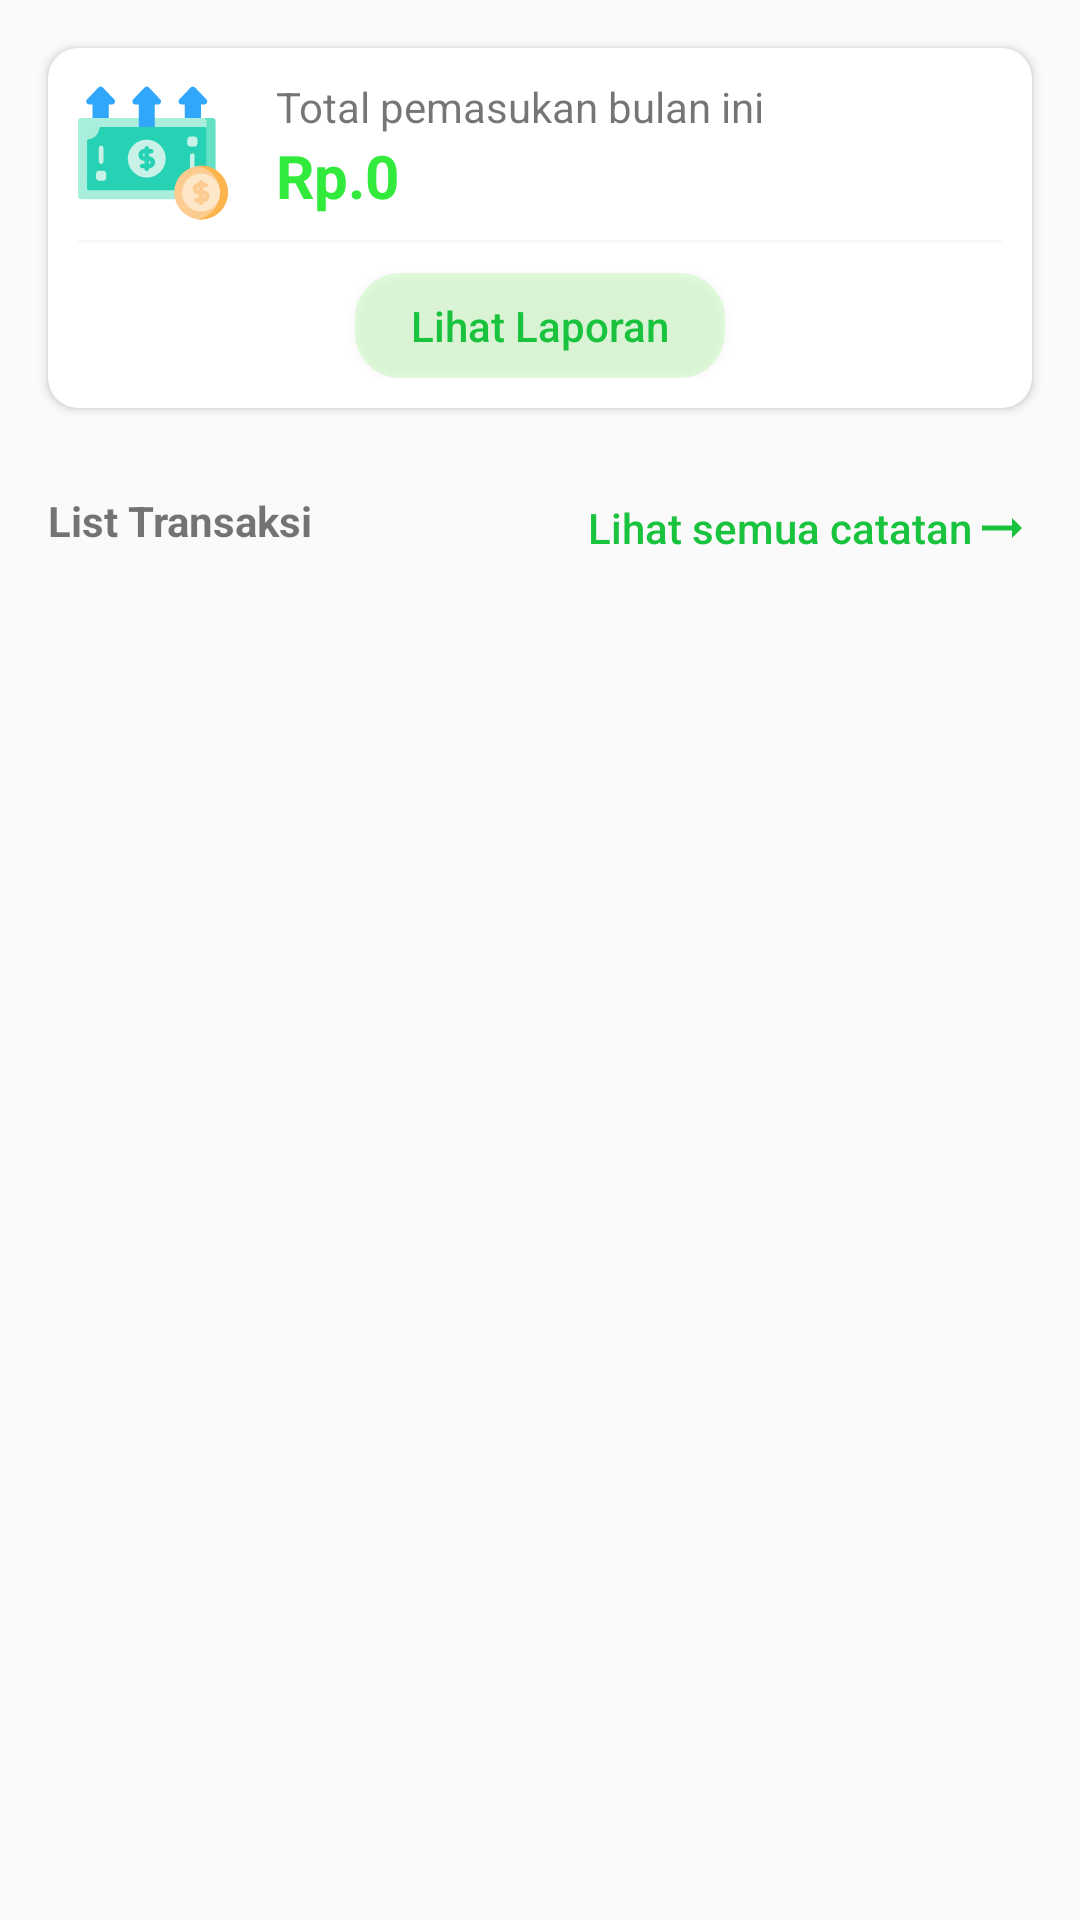

Locate icon controls on the screen. Image size 1080px x 1920px, boxes as bbox=[x1, y1, x2, y2].
income: bbox=[78, 86, 228, 220]
